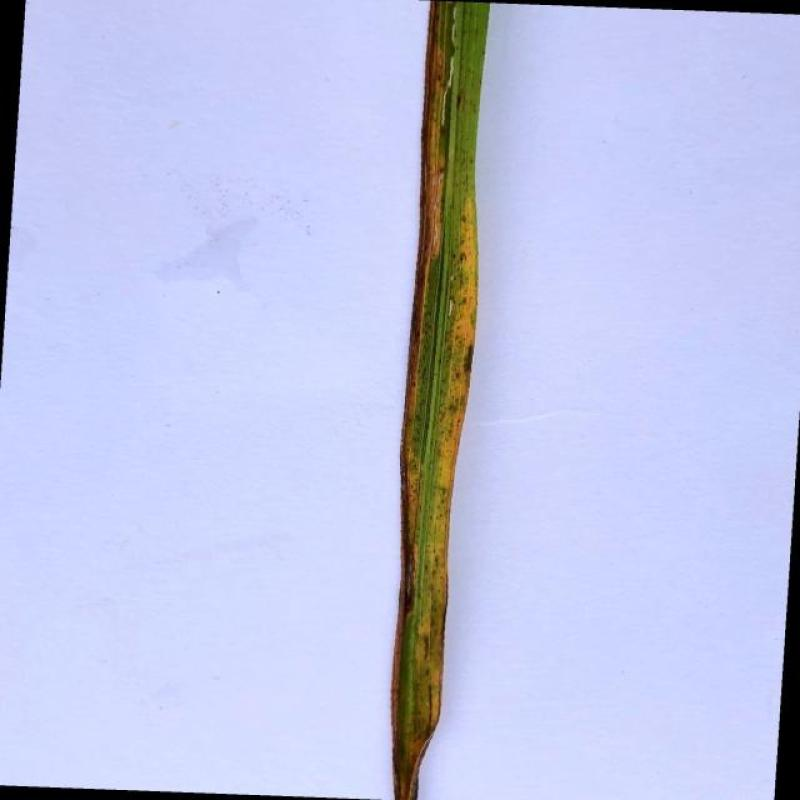Rice Tungro: (407, 0, 495, 800)
